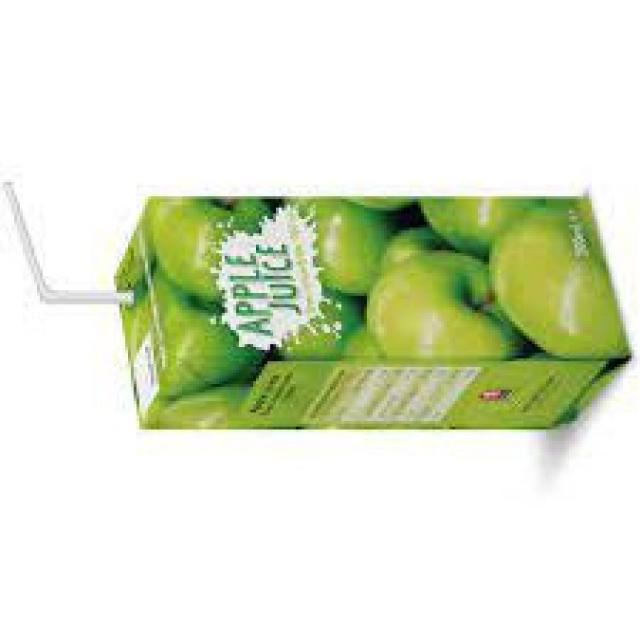non_white_jug: (101, 192, 631, 431)
